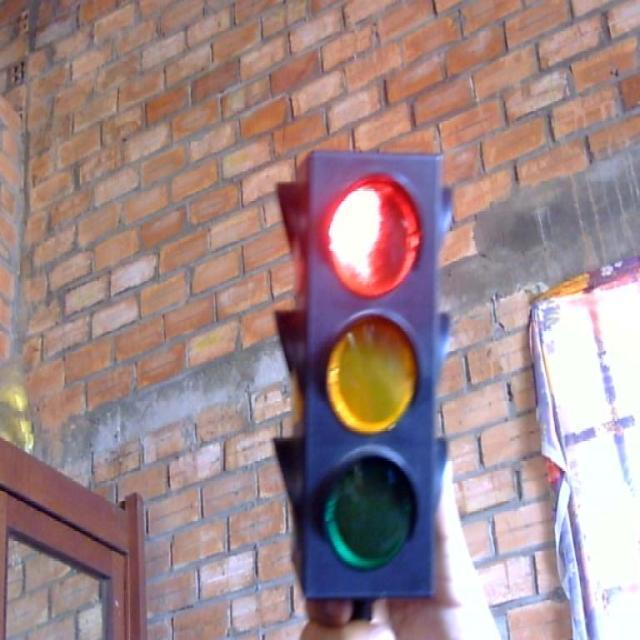red light: (320, 165, 428, 304)
